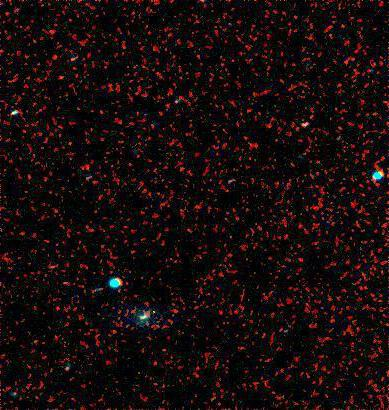star: (145, 296, 175, 326)
